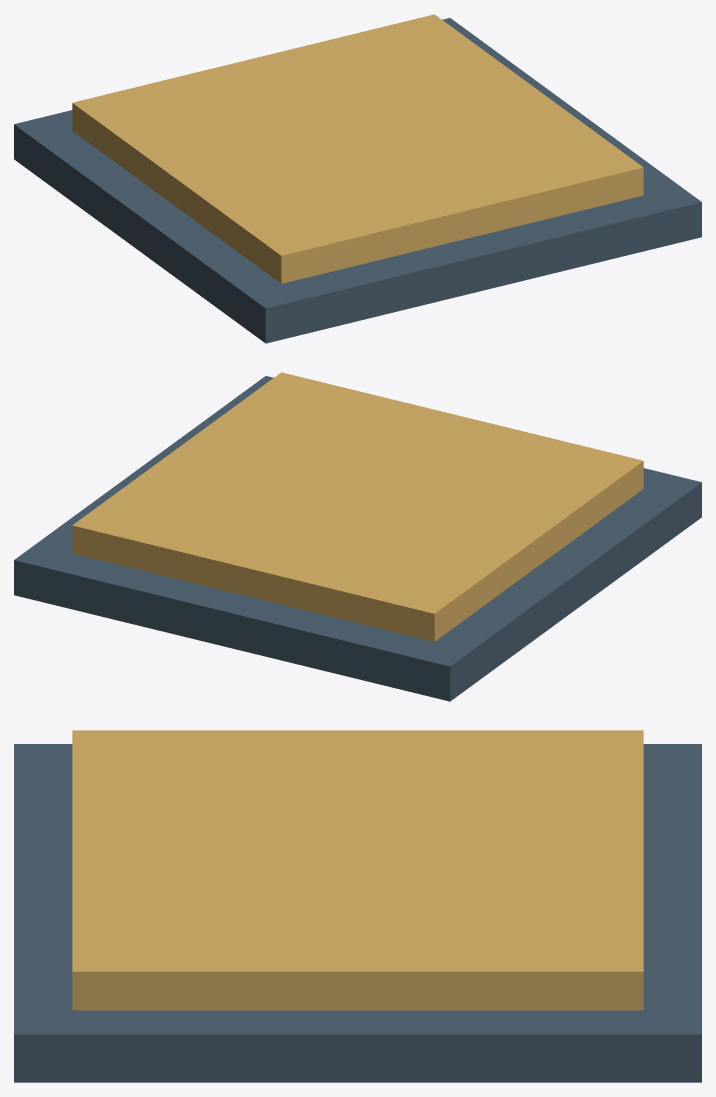
The model's file is pressure_plate.glb.
3 renders of one model, top to bottom at view 1: azimuth 30°, elevation 25°; view 2: azimuth 150°, elevation 25°; view 3: azimuth 270°, elevation 25°, orthographic. The views are drawn at different scales.
Visible parts, largest first — view 1: Part1, Part0; view 2: Part1, Part0; view 3: Part1, Part0.
Part boxes in pixels (<box>): Part1: <box>72,14,643,283</box>; Part0: <box>14,18,701,343</box>; Part1: <box>72,372,643,641</box>; Part0: <box>14,376,701,701</box>; Part1: <box>72,730,643,1010</box>; Part0: <box>14,744,701,1082</box>.
Size of the model in its own units: 1.3 by 0.18 by 1.3.
